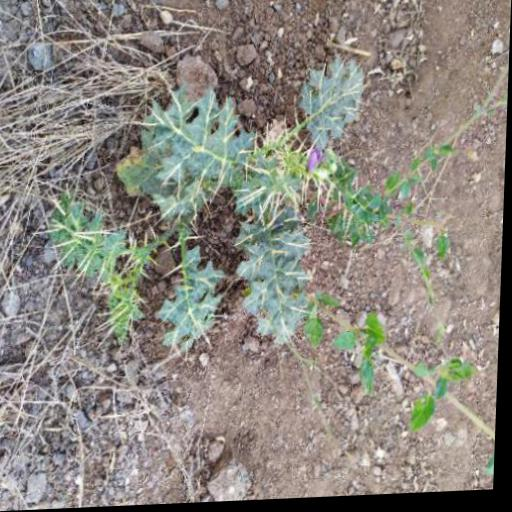weed: (44, 9, 488, 506)
